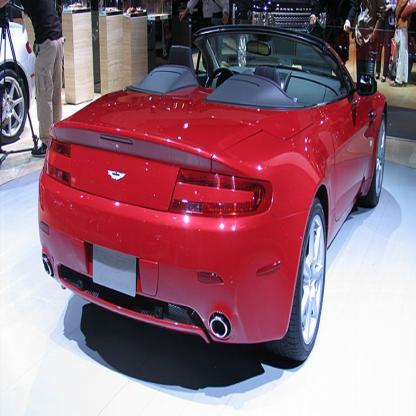Vehicle: (31, 13, 399, 393)
